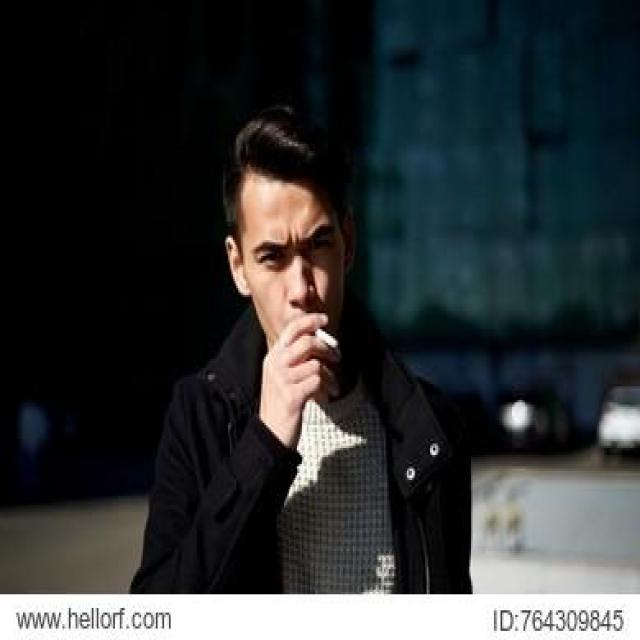Сигарета: (314, 324, 336, 348)
Тело: (131, 112, 476, 599)
